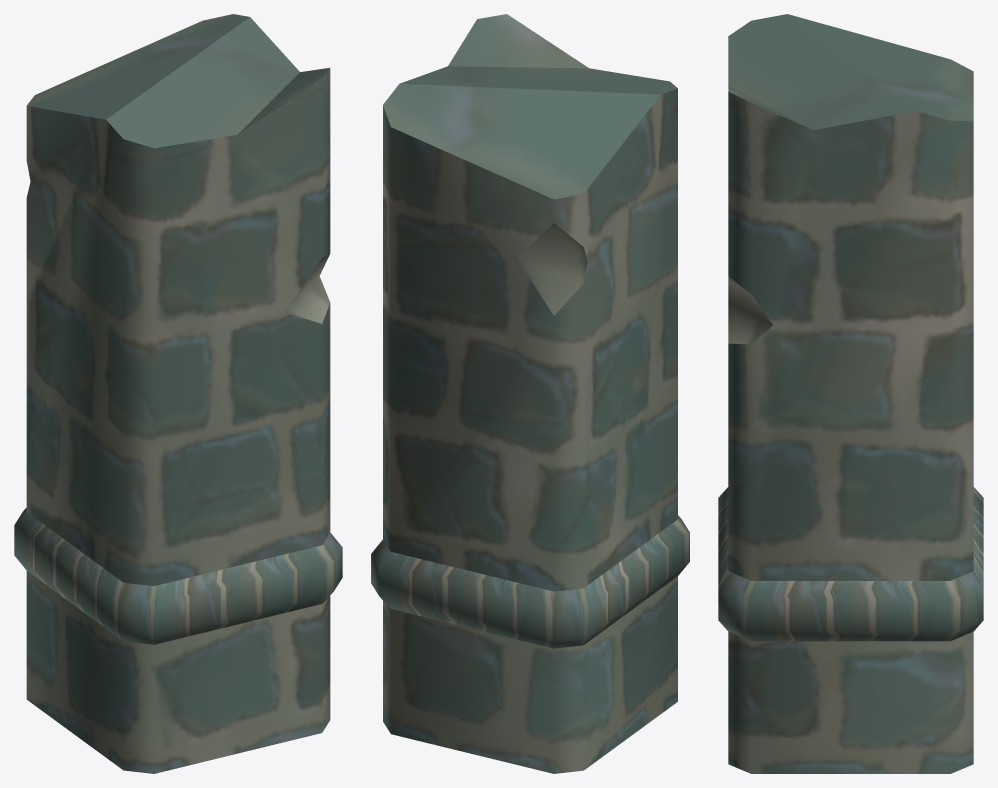
The model's file is HalfWall_Joint_02.fbx.
3 views of the same model, side by side, from view 1: azimuth 30°, elevation 25°; view 2: azimuth 150°, elevation 25°; view 3: azimuth 270°, elevation 25° (orthographic). The views are drawn at different scales.
Visible parts, largest first — view 1: HalfWall_Joint_02; view 2: HalfWall_Joint_02; view 3: HalfWall_Joint_02.
Part boxes in pixels (box(x1,y1,x2,y2)): HalfWall_Joint_02: box(14, 14, 342, 773); HalfWall_Joint_02: box(371, 14, 689, 773); HalfWall_Joint_02: box(718, 14, 983, 773).
Bounding box in the file's own units: 108 × 302 × 108.
